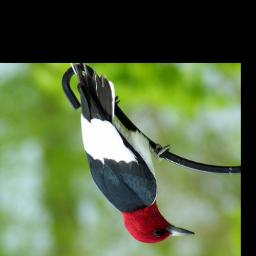Woodpecker: (67, 63, 198, 245)
